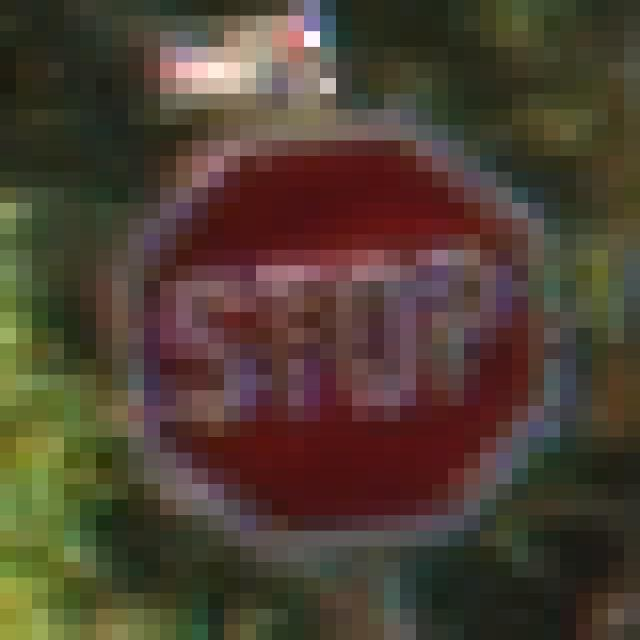STOP: (97, 95, 561, 563)
